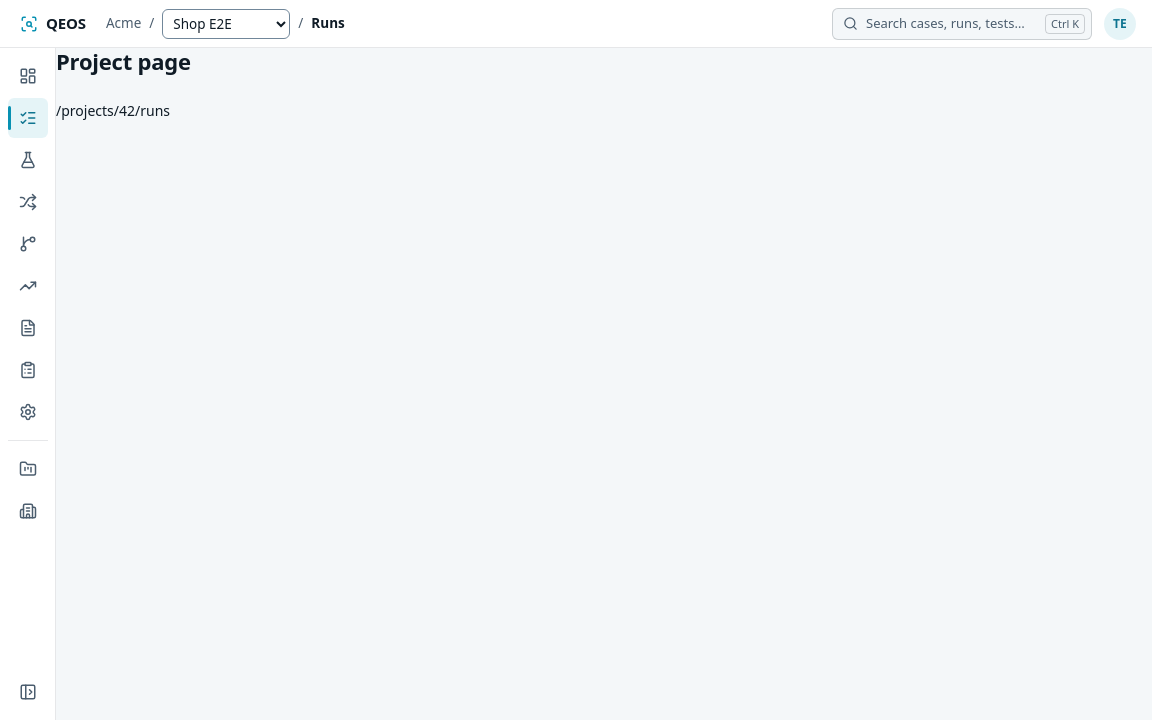
Test: opening and closing › Esc closes it even when focus has left the field
Click the button "Search cases, runs, tests… Ctrl K": (962, 24) [832,8,1092,40]
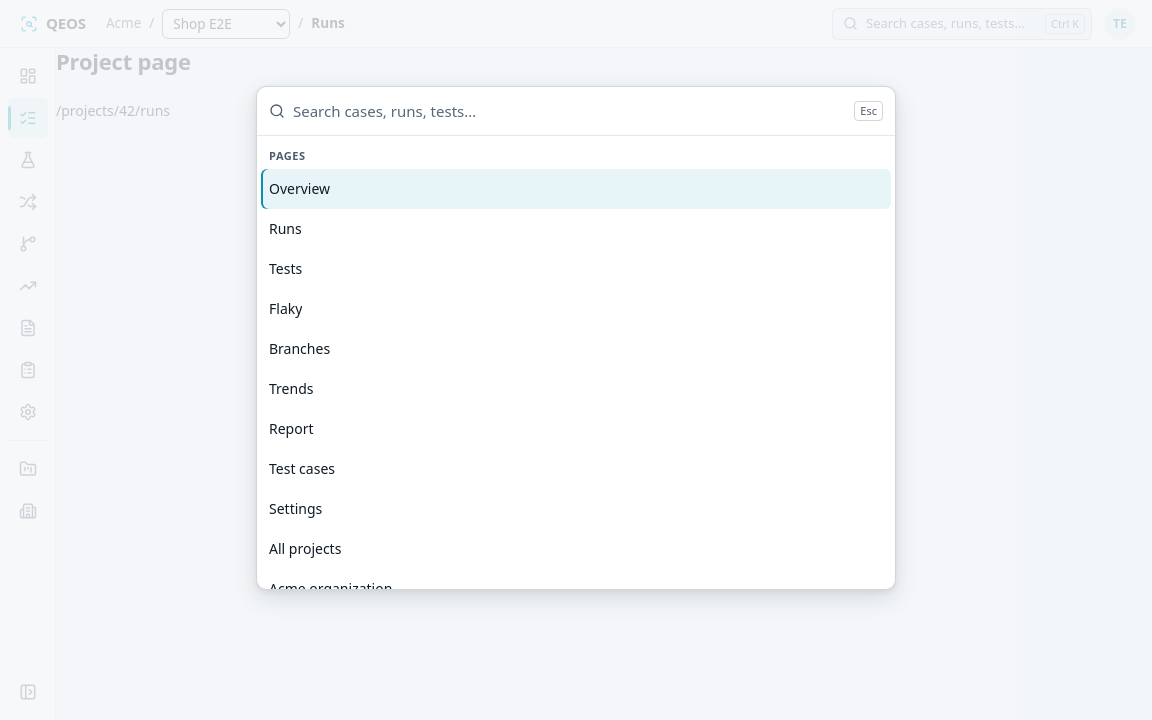
Press Escape
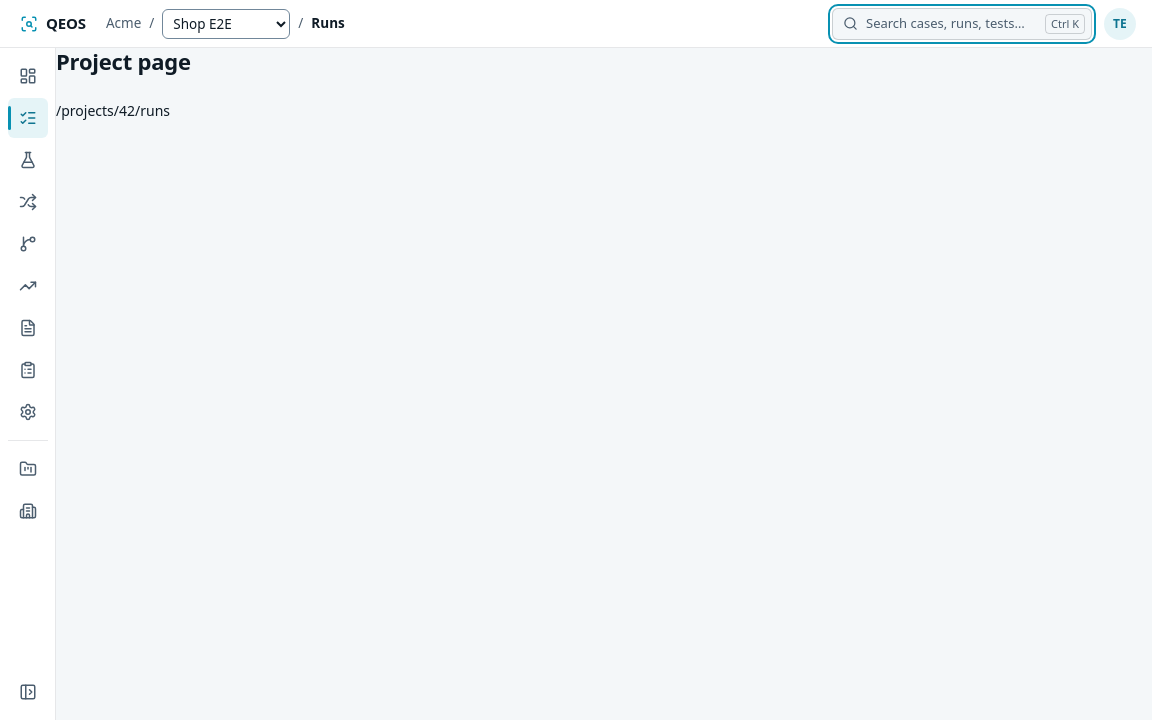
Result: the dialog is gone
